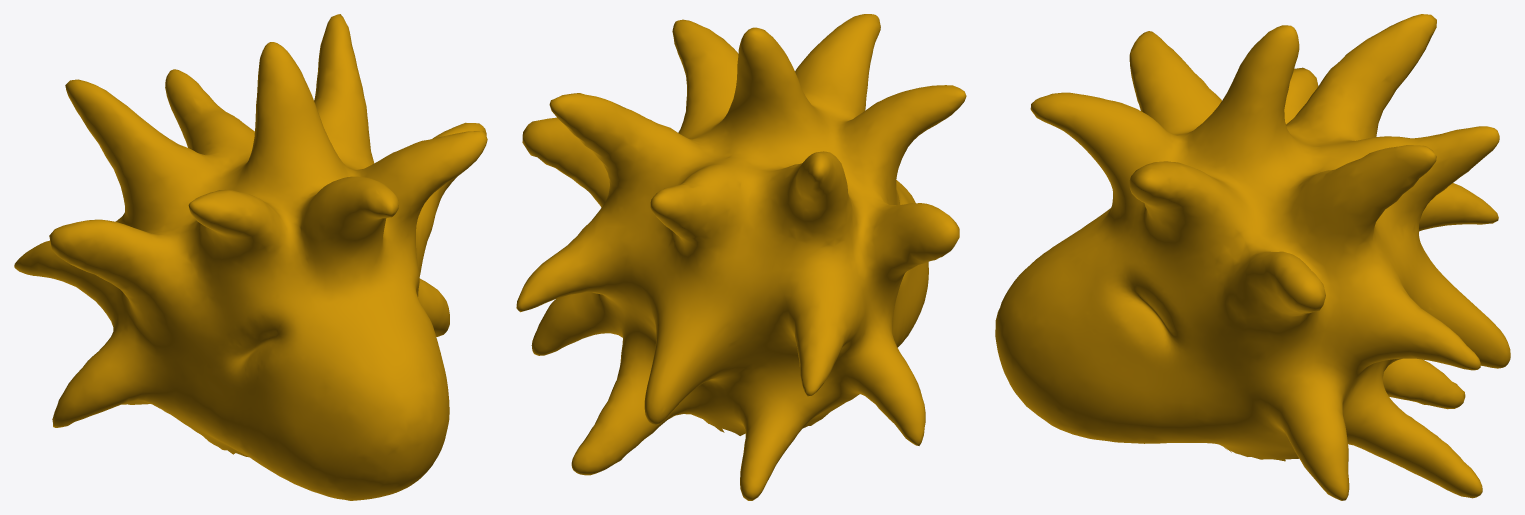
Rendered from estrellaWoodstock.obj.
3 views of the same model, side by side, from view 1: azimuth 30°, elevation 25°; view 2: azimuth 150°, elevation 25°; view 3: azimuth 270°, elevation 25° (orthographic). The views are drawn at different scales.
Parts seen in each view (by area): view 1: estrellaWoodstock_Woodstock.001; view 2: estrellaWoodstock_Woodstock.001; view 3: estrellaWoodstock_Woodstock.001.
Boxes of the visible parts, left/top/right/bottom form: estrellaWoodstock_Woodstock.001: left=14, top=14, right=487, bottom=500; estrellaWoodstock_Woodstock.001: left=516, top=14, right=966, bottom=500; estrellaWoodstock_Woodstock.001: left=995, top=14, right=1510, bottom=500.
Size of the model in its own units: 3.02 by 2.7 by 2.94.
